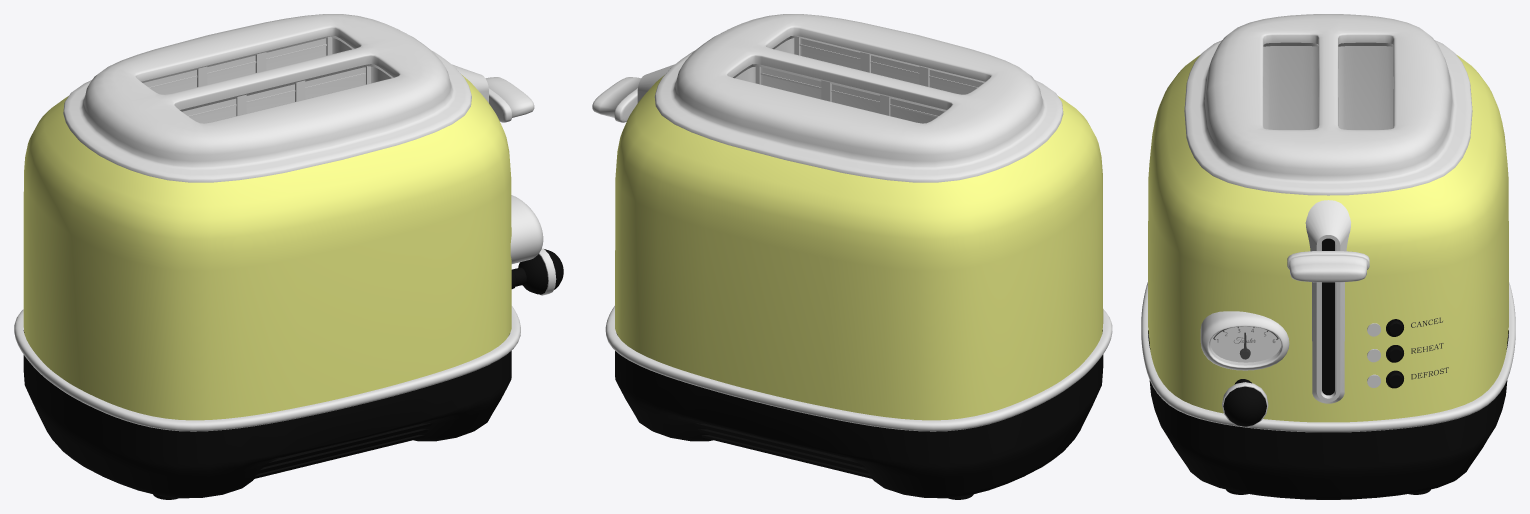
The model's file is tostador 07 GLB (1).glb.
3 renders of one model, left to right at view 1: azimuth 30°, elevation 25°; view 2: azimuth 150°, elevation 25°; view 3: azimuth 270°, elevation 25°, orthographic. The views are drawn at different scales.
Visible parts, largest first — view 1: Cube, Cube.001, Cube.013, Sphere, Cube.010, Cube.008; view 2: Cube, Cube.001, Cube.013, Cube.008; view 3: Cube, Cylinder, Cube.001, Cube.010, Cube.008, Cube.012, Plane.001, Sphere, Cylinder.002.
Boxes of the visible parts, x1,y1,x2,y2 form: Cube: (23,14,511,498); Cube.001: (14,306,520,431); Cube.013: (253,423,432,479); Sphere: (511,248,563,295); Cube.010: (510,195,543,263); Cube.008: (485,77,534,122); Cube: (615,14,1103,498); Cube.001: (605,306,1112,431); Cube.013: (694,423,873,479); Cube.008: (592,77,640,122); Cube: (1148,14,1508,499); Cylinder: (1305,200,1351,403); Cube.001: (1141,282,1515,432); Cube.010: (1200,311,1289,370); Cube.008: (1287,251,1369,282); Cube.012: (1209,326,1281,365); Plane.001: (1210,326,1281,362); Sphere: (1222,379,1268,426); Cylinder.002: (1367,319,1403,388).
Bounding box in the file's own units: 3.87 × 2.79 × 2.79.
Materials: 6 (1 with a texture image).
